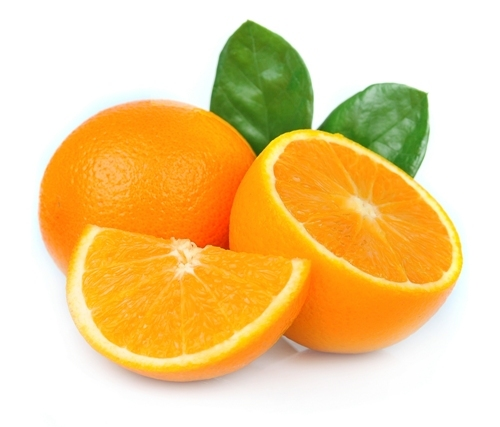orange: (35, 96, 268, 315)
